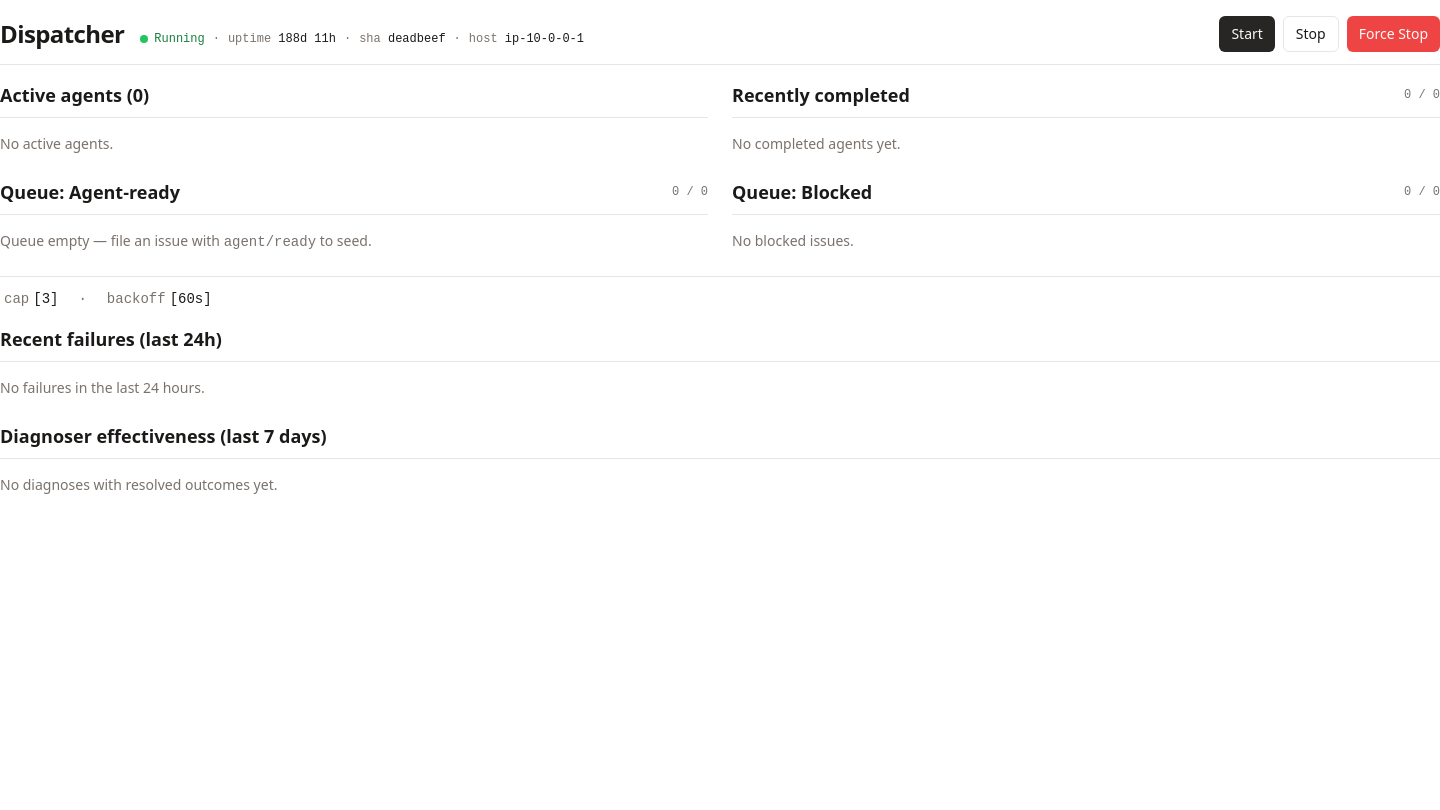
Test case: DispatcherDashboard — #3159 expand-count dialog wiring › clicking the Ready count opens the dialog with the READY title
Click the button with test id "queue-ready-count".
click(690, 192)  # box [672,184,708,200]
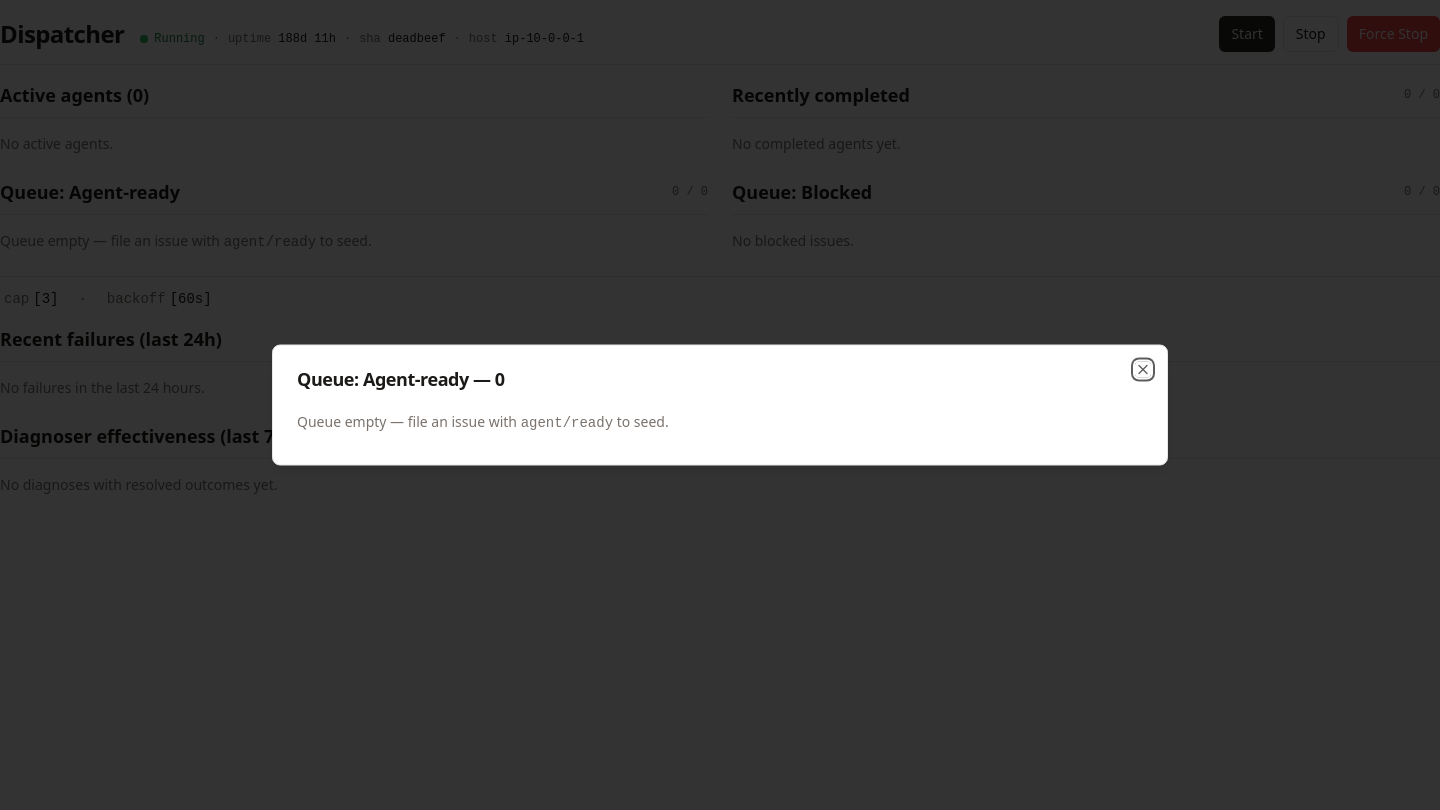
expect the heading with test id "queue-full-dialog-title" shows "Queue: Agent-ready": met, box [297,366,505,390]
